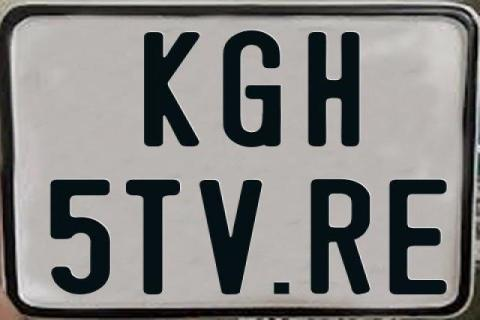0: (48, 179, 109, 297)
E: (386, 177, 450, 292)
G: (221, 31, 280, 150)
H: (305, 31, 359, 151)
K: (143, 30, 199, 144)
R: (311, 178, 370, 298)
T: (126, 178, 185, 298)
V: (200, 179, 268, 296)
